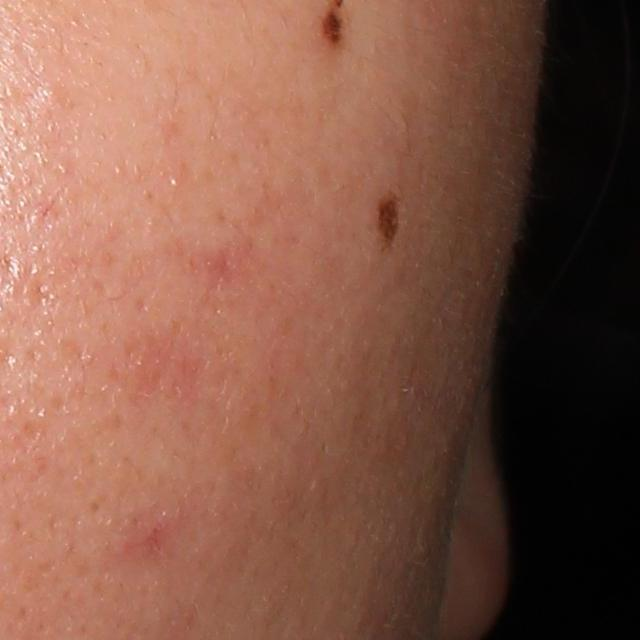comedo: (34, 82, 63, 108)
nevus: (377, 187, 406, 253)
